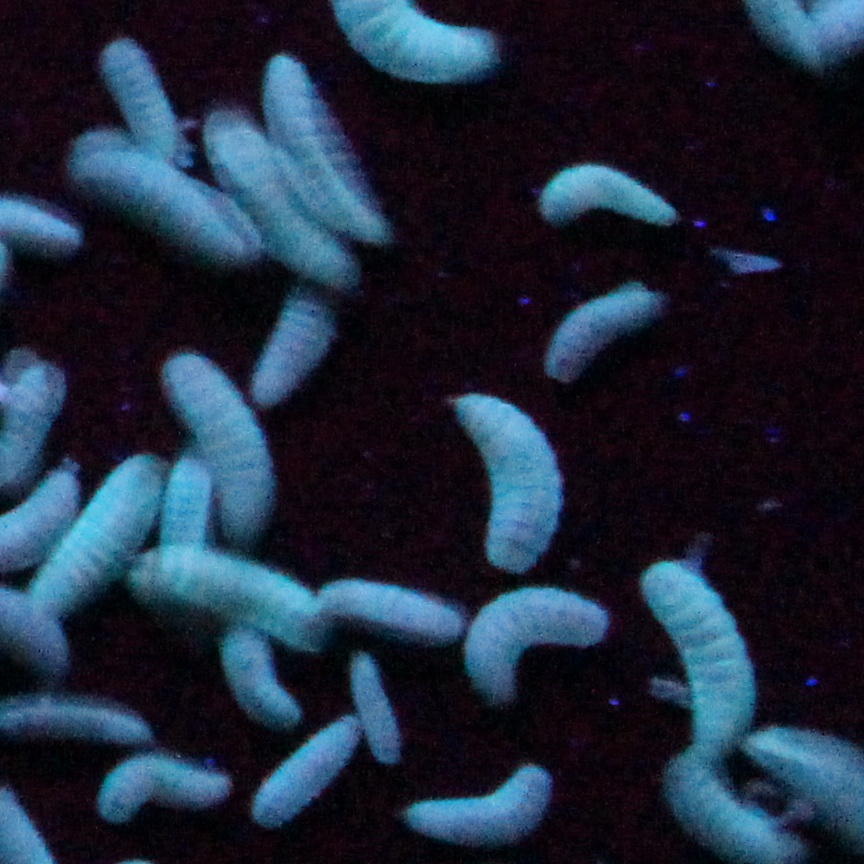larve: (19, 455, 170, 618), (159, 355, 286, 533), (68, 137, 252, 257), (205, 106, 336, 272), (270, 55, 384, 241), (458, 381, 557, 570), (651, 565, 753, 745), (450, 593, 609, 697), (141, 546, 312, 632), (257, 698, 353, 828), (91, 31, 177, 146), (412, 764, 546, 837), (259, 285, 347, 396), (316, 577, 468, 641), (553, 286, 654, 376), (539, 155, 670, 223), (216, 618, 298, 721), (101, 753, 229, 818), (341, 649, 398, 760)
